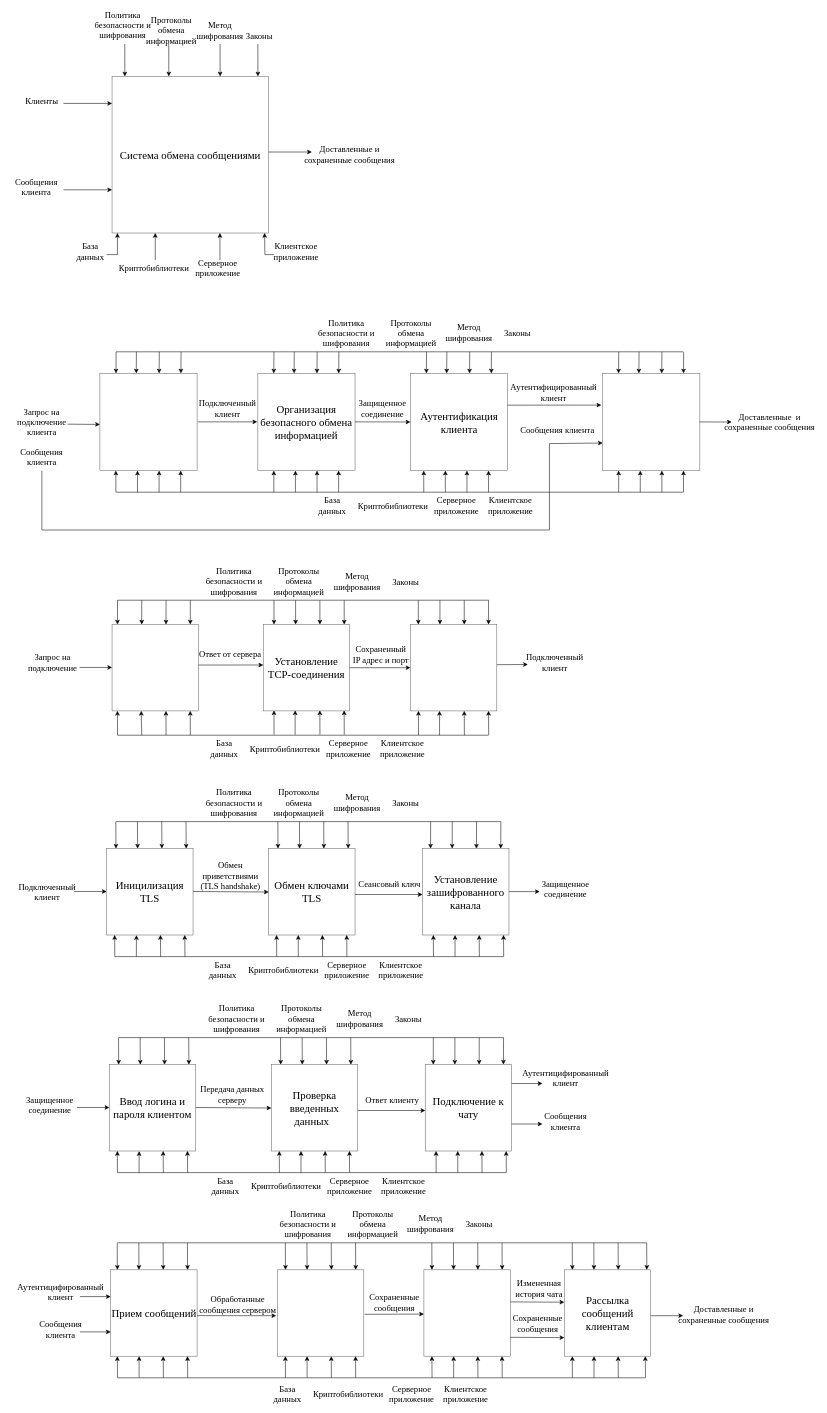
The diagram is 827 pixels wide and 1413 high, and some of its shapes have lost their labels. The shapes that lost their labels are listed below. From the top down, each one's centre as x and y in pixels, then its label:
At point (148, 422): "Управление подключением клиента".
At point (651, 422): "Организация доставки и хранения отправленных сообщений".
At point (155, 667): "Проверка доступности сервера".
At point (453, 667): "Создание канала для обмена информацией".
At point (320, 1312): "Сохранение сообщений в истории чата".
At point (466, 1312): "Очистка старых сообщений".
